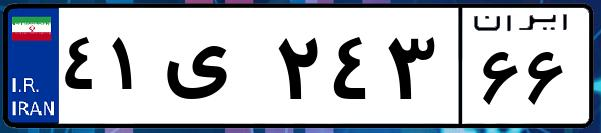1: (110, 28, 158, 98)
2: (270, 28, 330, 110)
3: (385, 28, 445, 110)
4: (330, 28, 385, 110), (57, 26, 110, 100)
6: (475, 38, 525, 113), (525, 38, 570, 115)
ی: (158, 20, 270, 120)
